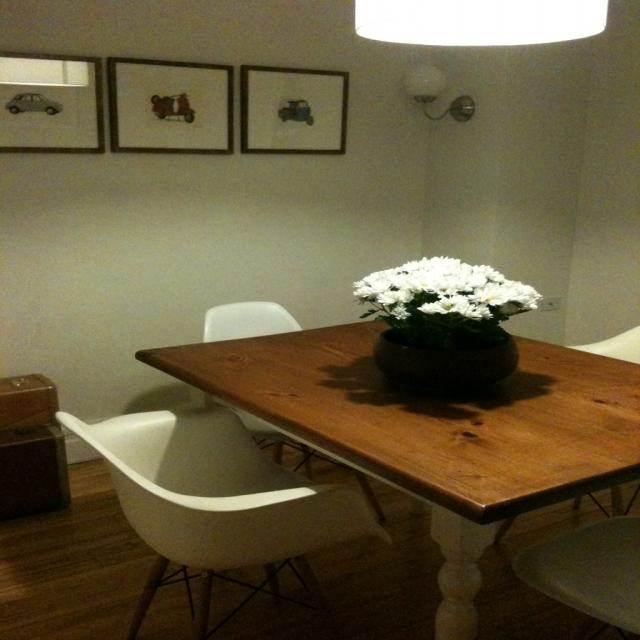chair: (57, 406, 391, 640), (511, 516, 639, 639)
desk: (75, 298, 612, 628)
